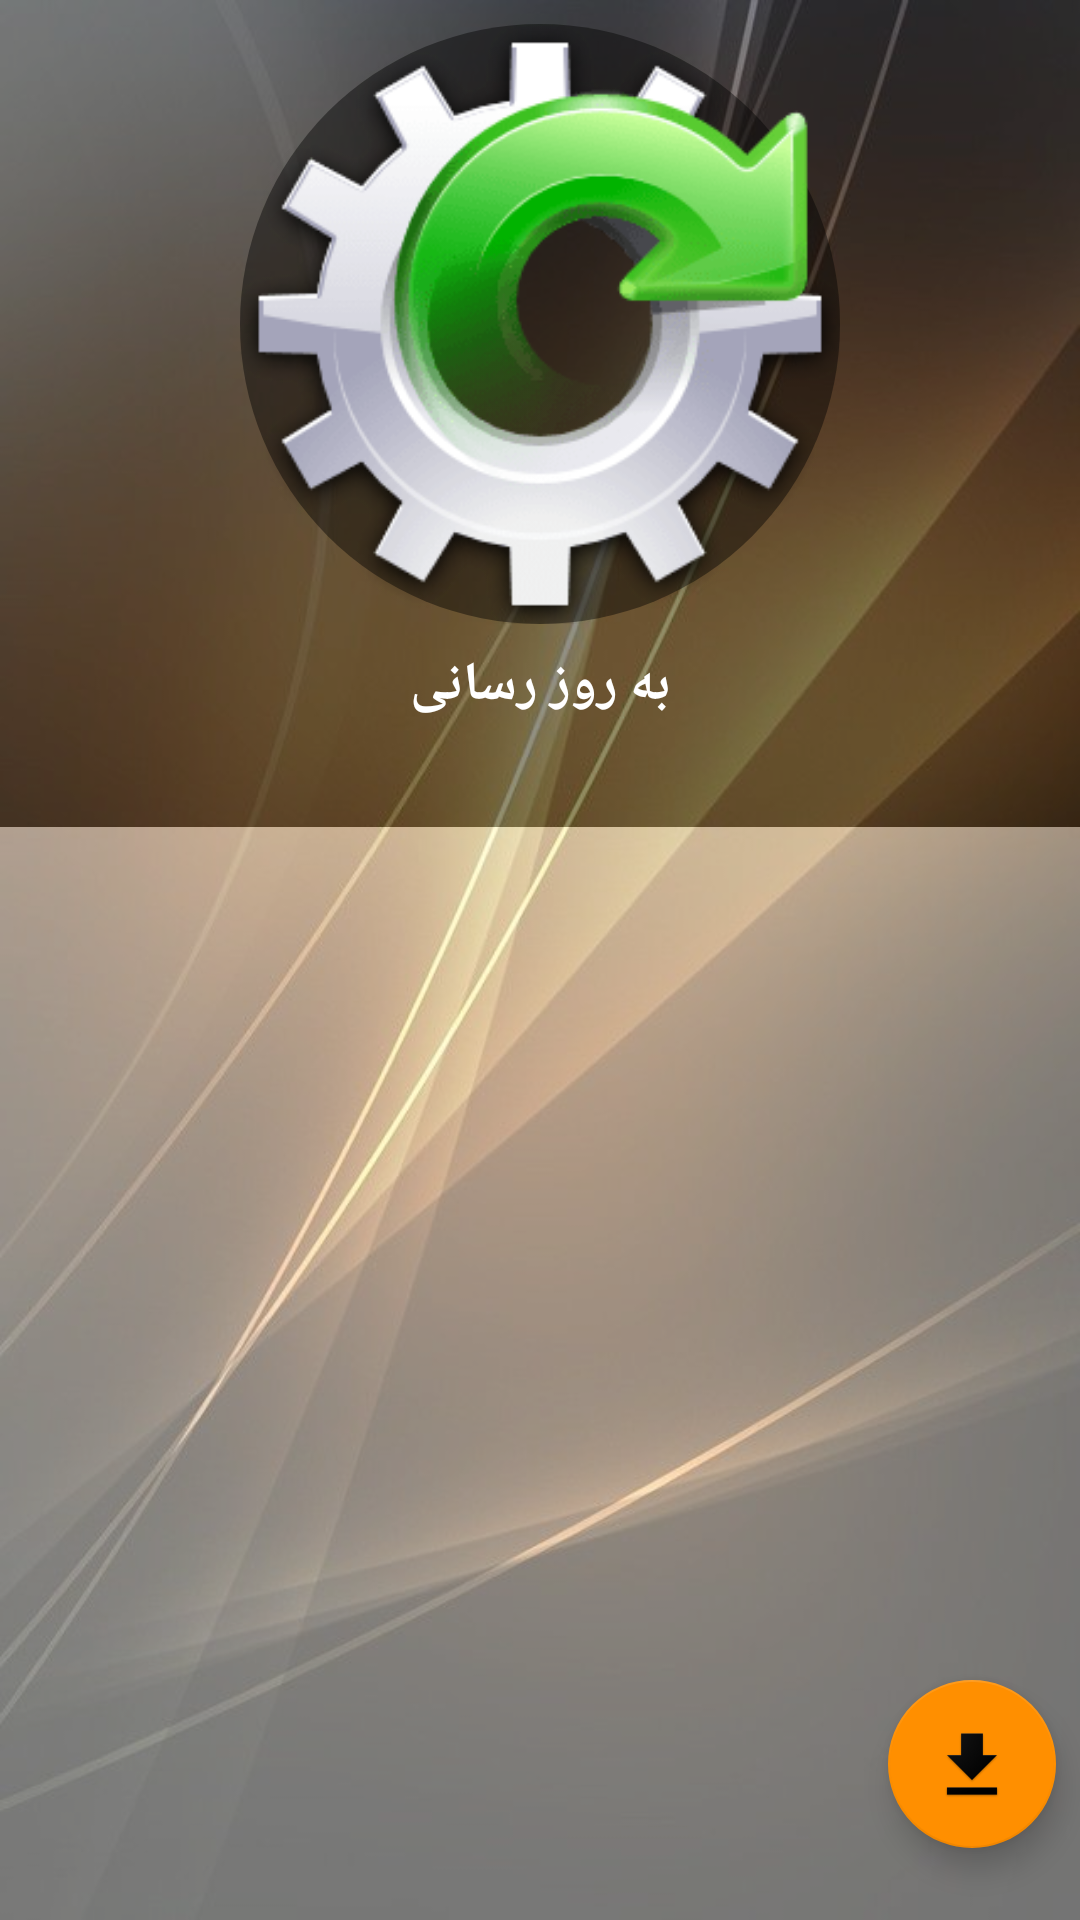

Screen size 1080*1920. Icon name, then its box in pixels as (x1, y1, x2, y2):
download: (888, 1680, 1056, 1848)
